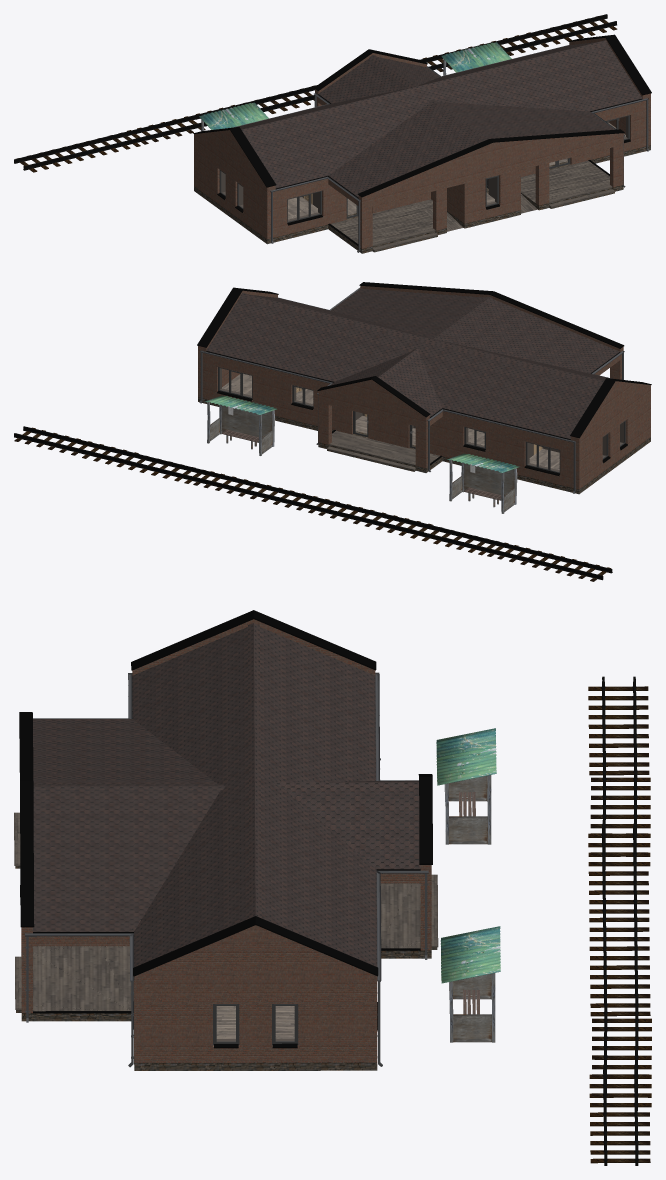
Rendered from trainStation.gltf.
3 views of the same model, one above another, from view 1: azimuth 30°, elevation 25°; view 2: azimuth 150°, elevation 25°; view 3: azimuth 270°, elevation 25° (orthographic). The views are drawn at different scales.
Parts seen in each view (by area): view 1: Material6, Material2, Material7, Material14, Material16, straightTrack1.002, straightTrack3, Material12, Plane.024_Material.022_0.001, Plane.024, Material21, straightTrack2.002 (+5 smaller); view 2: Material6, Material2, Material14, Plane.024, Material16, straightTrack1.002, straightTrack1, straightTrack2.002, straightTrack2, Plane.024_Material.024_0.001, Material12, Material8 (+8 smaller); view 3: Material6, Material2, Material14, Material7, Plane.024, Material16, straightTrack1.002, straightTrack1, Material12, straightTrack2.002, straightTrack2, straightTrack3 (+6 smaller).
Part boxes in pixels (box(x1,y1,x2,y2)): Material6: box(236, 40, 642, 197); Material2: box(194, 38, 650, 248); Material7: box(331, 43, 609, 243); Material14: box(193, 34, 651, 245); Material16: box(194, 145, 650, 253); straightTrack1.002: box(14, 131, 140, 172); straightTrack3: box(493, 14, 617, 55); Material12: box(233, 45, 648, 252); Plane.024_Material.022_0.001: box(441, 42, 511, 72); Plane.024: box(199, 102, 268, 131); Material21: box(372, 185, 615, 250); straightTrack2.002: box(127, 103, 243, 144); Material6: box(206, 288, 619, 439); Material2: box(198, 286, 650, 489); Material14: box(197, 282, 651, 476); Plane.024: box(447, 453, 519, 513); Material16: box(198, 397, 650, 494); straightTrack1.002: box(486, 541, 612, 581); straightTrack1: box(193, 470, 317, 510); straightTrack2.002: box(374, 514, 499, 555); straightTrack2: box(81, 442, 205, 483); Plane.024_Material.024_0.001: box(210, 405, 272, 454); Material12: box(199, 287, 624, 493); Material8: box(222, 373, 559, 470); Material6: box(33, 623, 420, 967); Material2: box(21, 619, 431, 1062); Material14: box(19, 610, 432, 1048); Material7: box(33, 883, 420, 1011); Plane.024: box(436, 728, 496, 844); Material16: box(15, 866, 437, 1070); straightTrack1.002: box(588, 676, 649, 777); straightTrack1: box(589, 917, 650, 1017); Material12: box(25, 672, 428, 1067); straightTrack2.002: box(590, 768, 650, 869); straightTrack2: box(591, 1009, 651, 1110); straightTrack3: box(589, 1064, 650, 1165).
Bounding box in the file's own units: 763 × 115 × 426.
22 materials, 13 textured.
